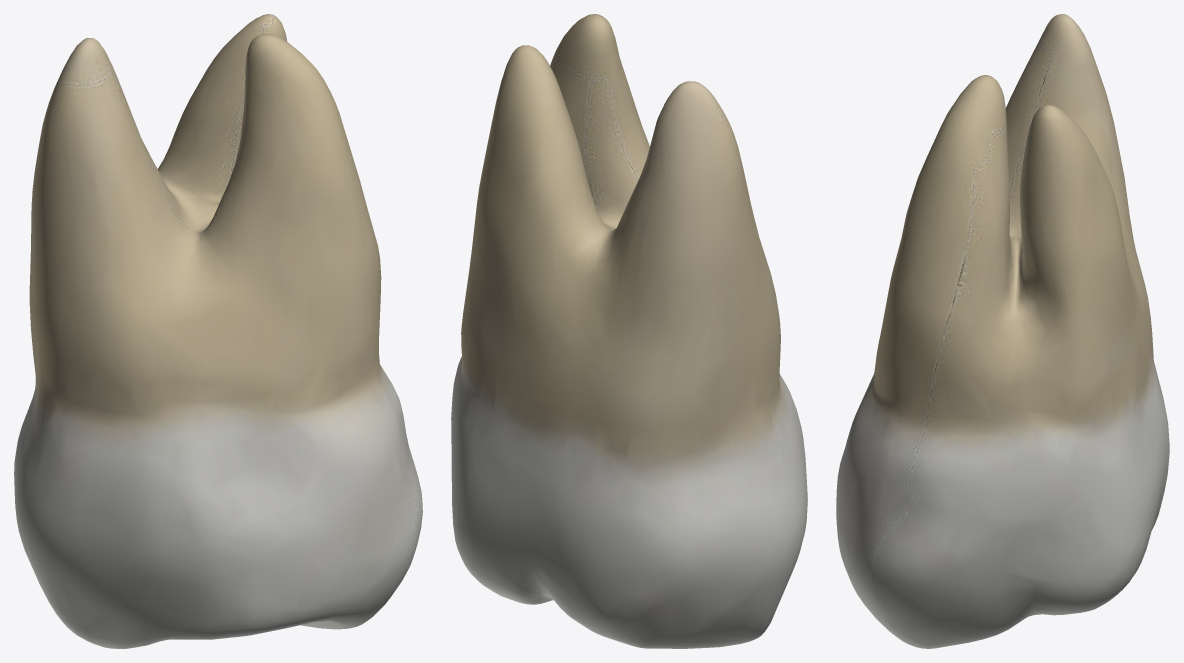
Rendered from maxillary_third_molar.glb.
3 renders of one model, left to right at view 1: azimuth 30°, elevation 25°; view 2: azimuth 150°, elevation 25°; view 3: azimuth 270°, elevation 25°, orthographic. The views are drawn at different scales.
Parts seen in each view (by area): view 1: Object_2; view 2: Object_2; view 3: Object_2.
Boxes of the visible parts, box(x1,y1,x2,y2) form: Object_2: box(14, 14, 422, 648); Object_2: box(451, 14, 807, 648); Object_2: box(836, 14, 1169, 648).
Bounding box in the file's own units: 0.941 × 1.55 × 0.848.
1 material, 1 textured.
